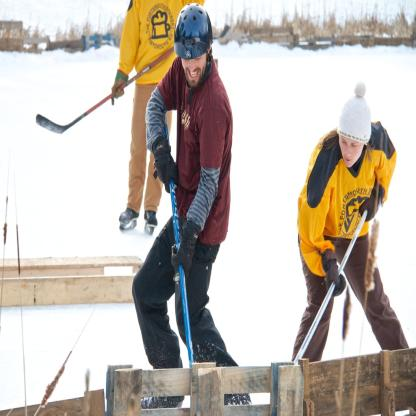Helmet: (172, 0, 212, 104)
